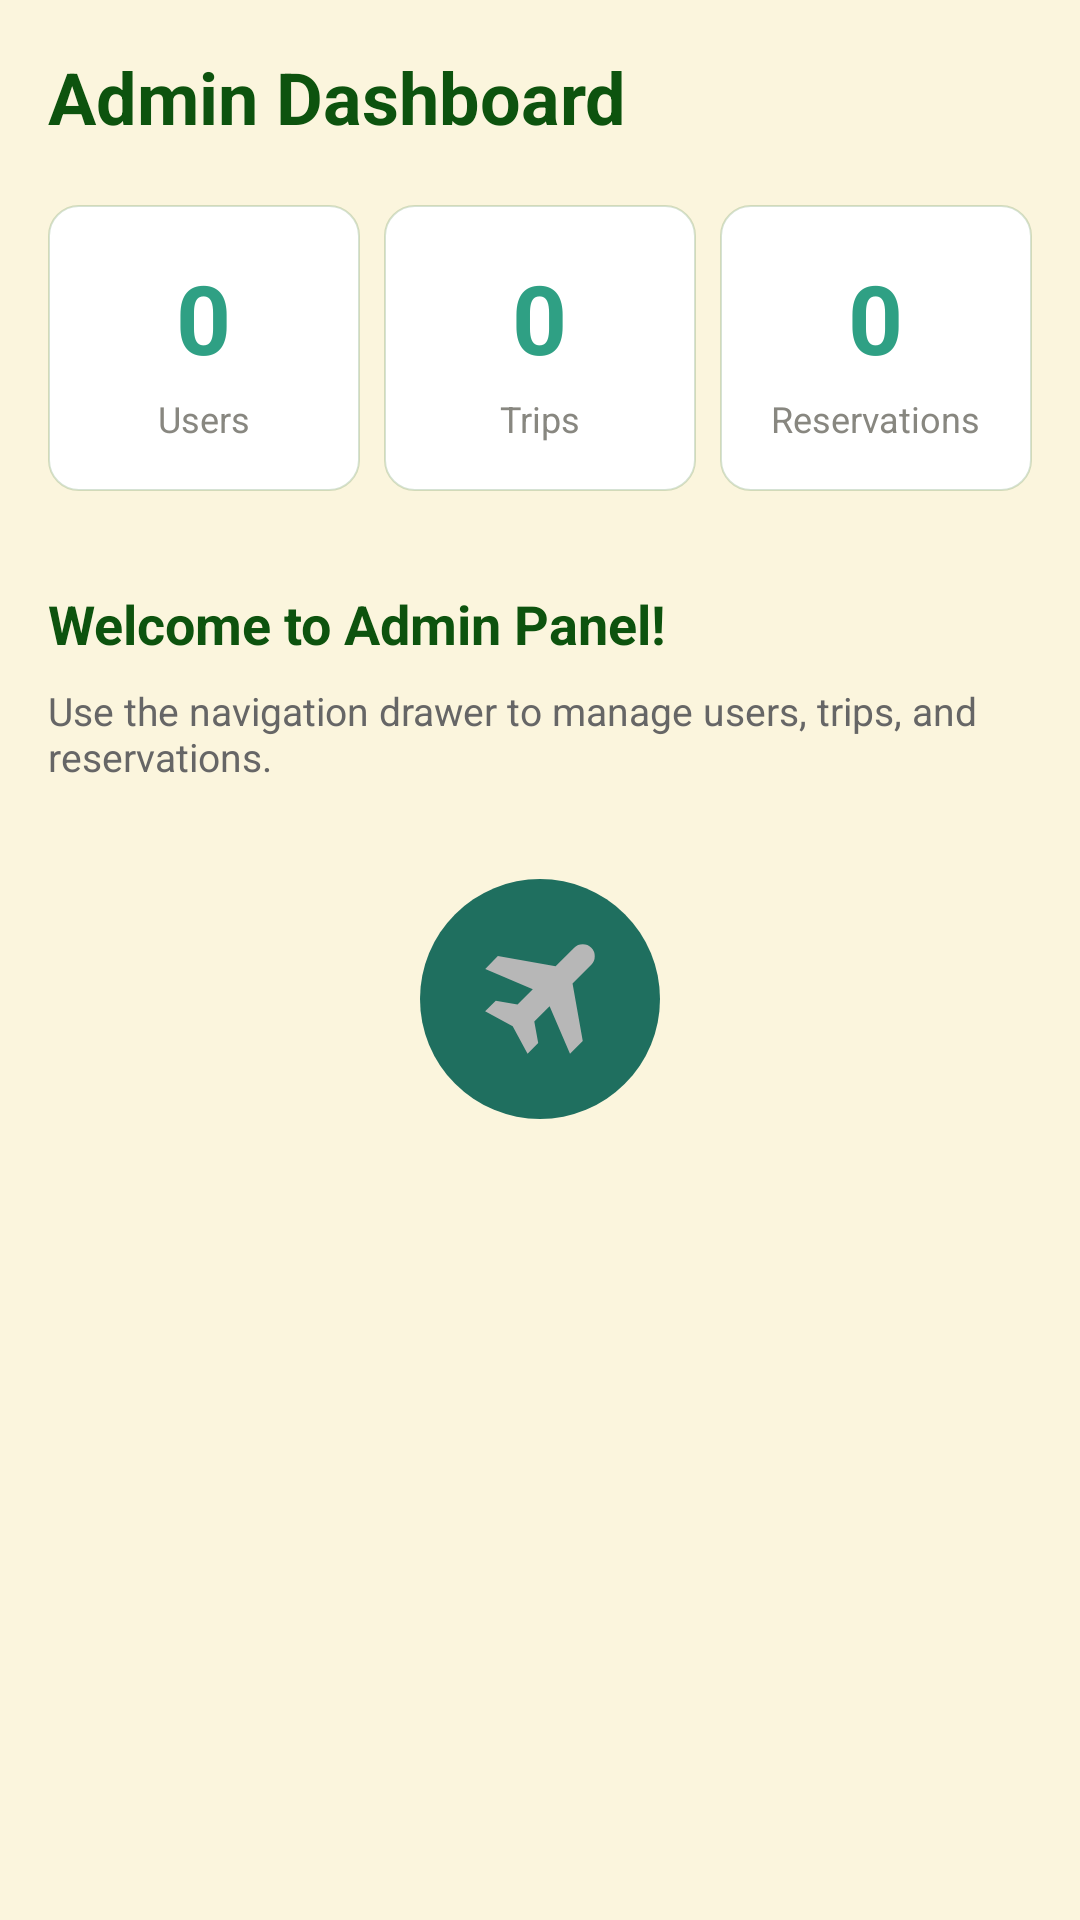

Icons on this 1080 × 1920 Android screen, each with the point to tap as (x,y):
plane: (540,999)
